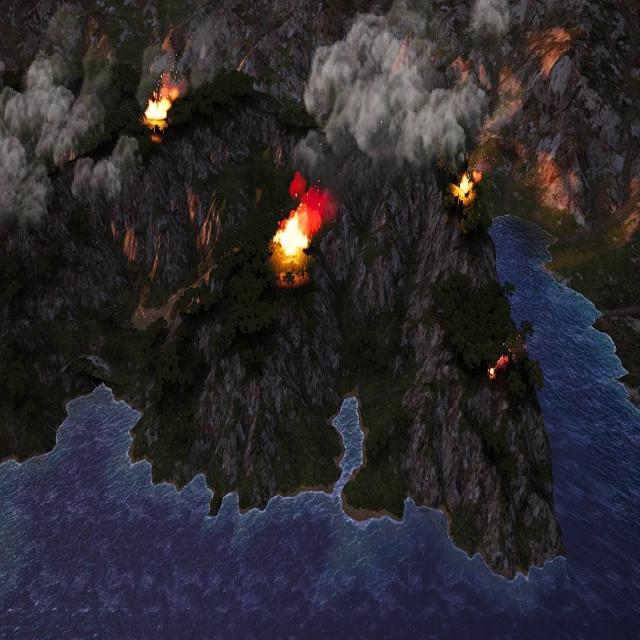fire: (274, 175, 335, 264), (144, 91, 172, 128), (486, 351, 510, 381), (454, 171, 474, 200)
smoke: (293, 3, 534, 198), (0, 42, 132, 241), (180, 8, 223, 91)
